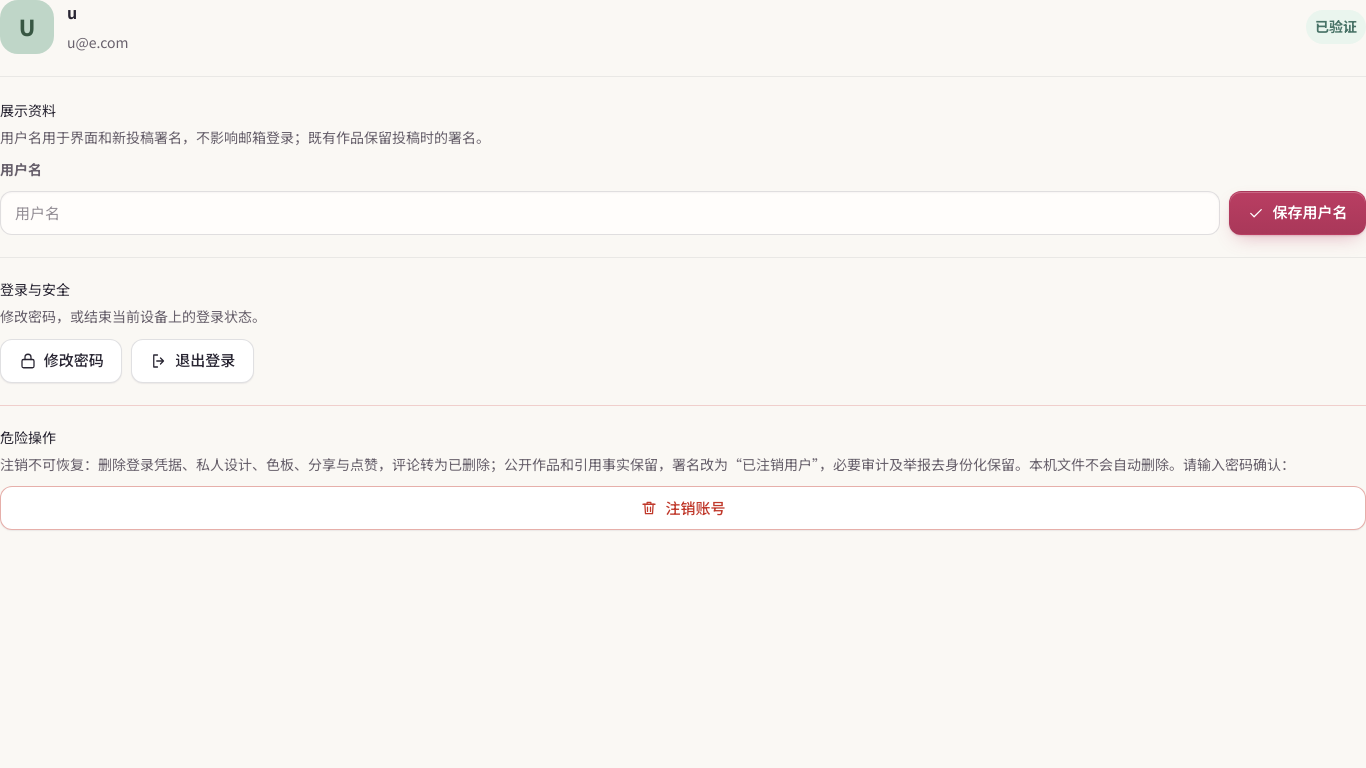
Test: AccountMenu › 修改密码：错误当前密码显示服务端错误；正确则关闭对话框
Click the button "修改密码": (61, 361) 0,339 -> 122,383
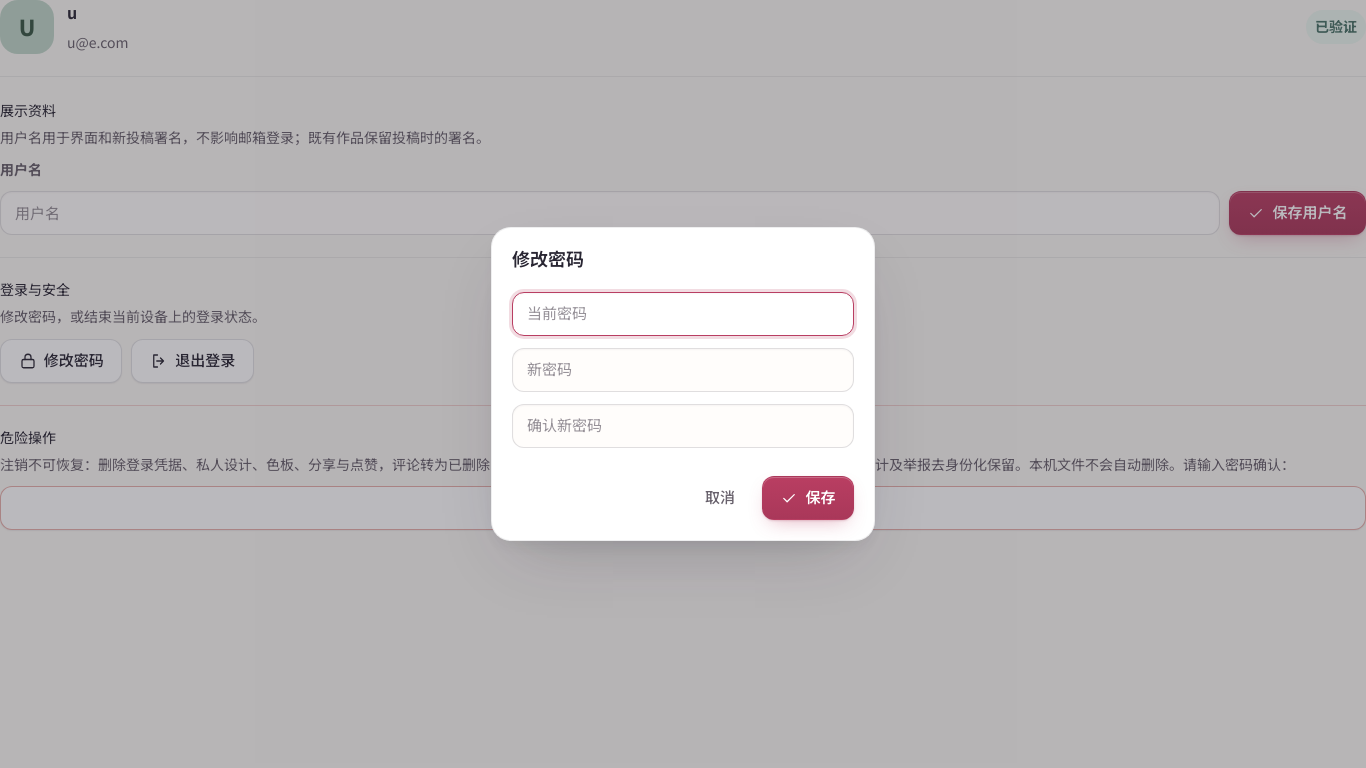
In the password field labelled "当前密码": (683, 314) 512,292 -> 854,336, type "错误"
In the password field labelled "新密码": (683, 370) 512,348 -> 854,392, type "newpassword1"
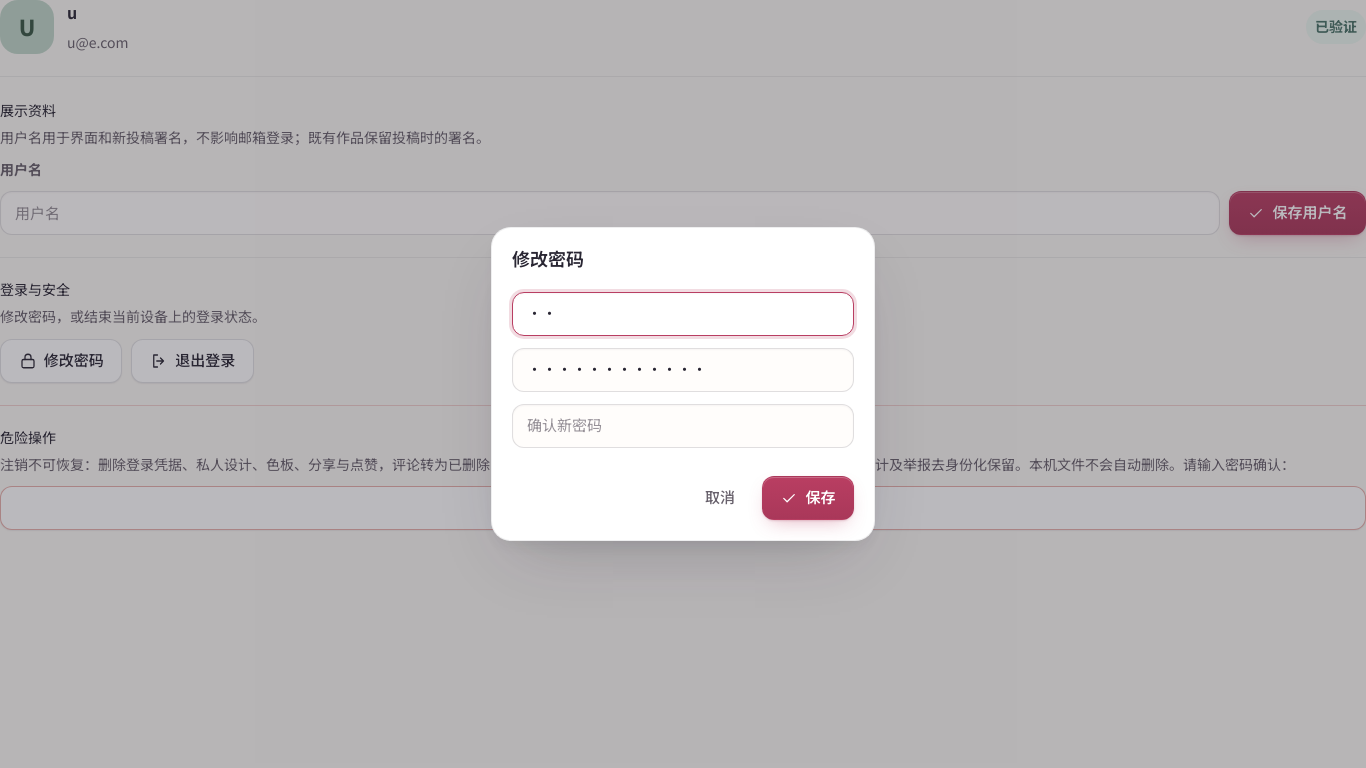
In the password field labelled "确认新密码": (683, 426) 512,404 -> 854,448, type "newpassword1"
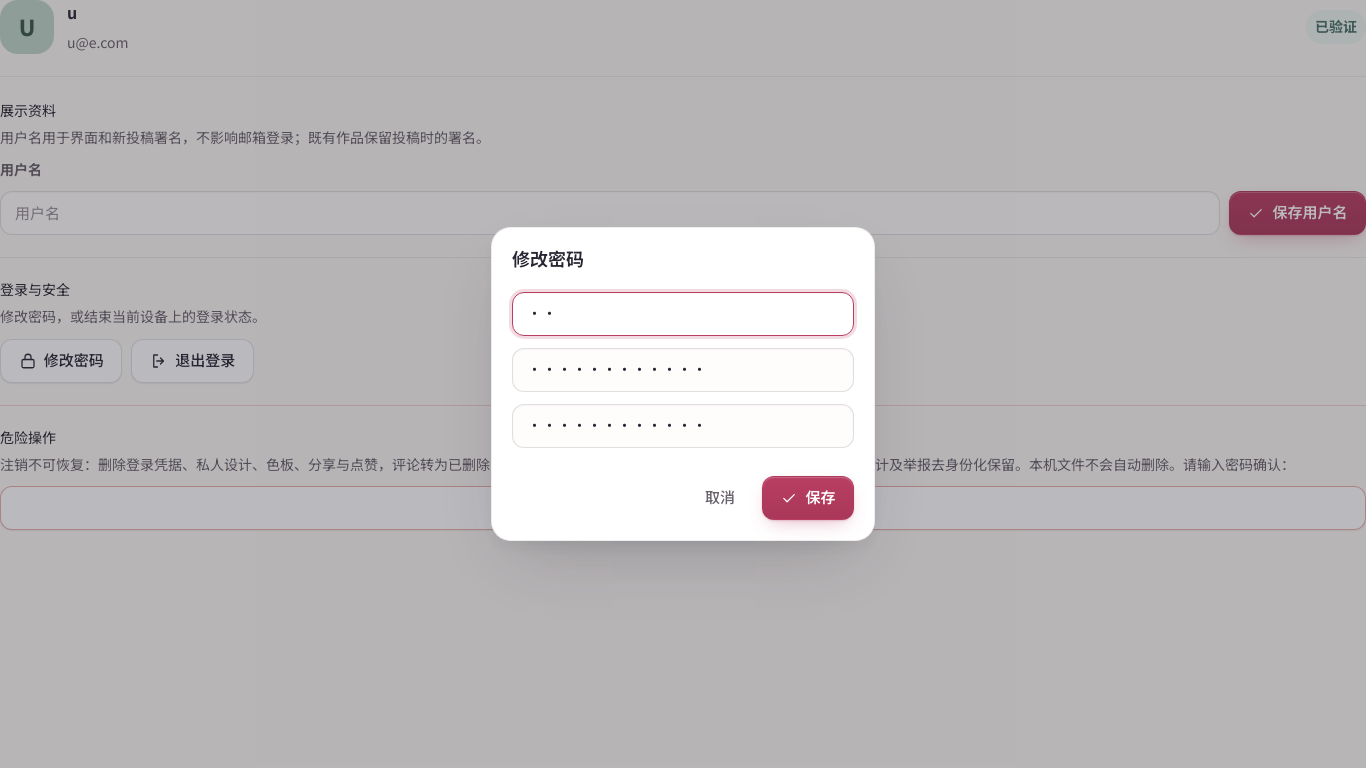
Click the button "保存": (808, 498) 762,476 -> 854,520
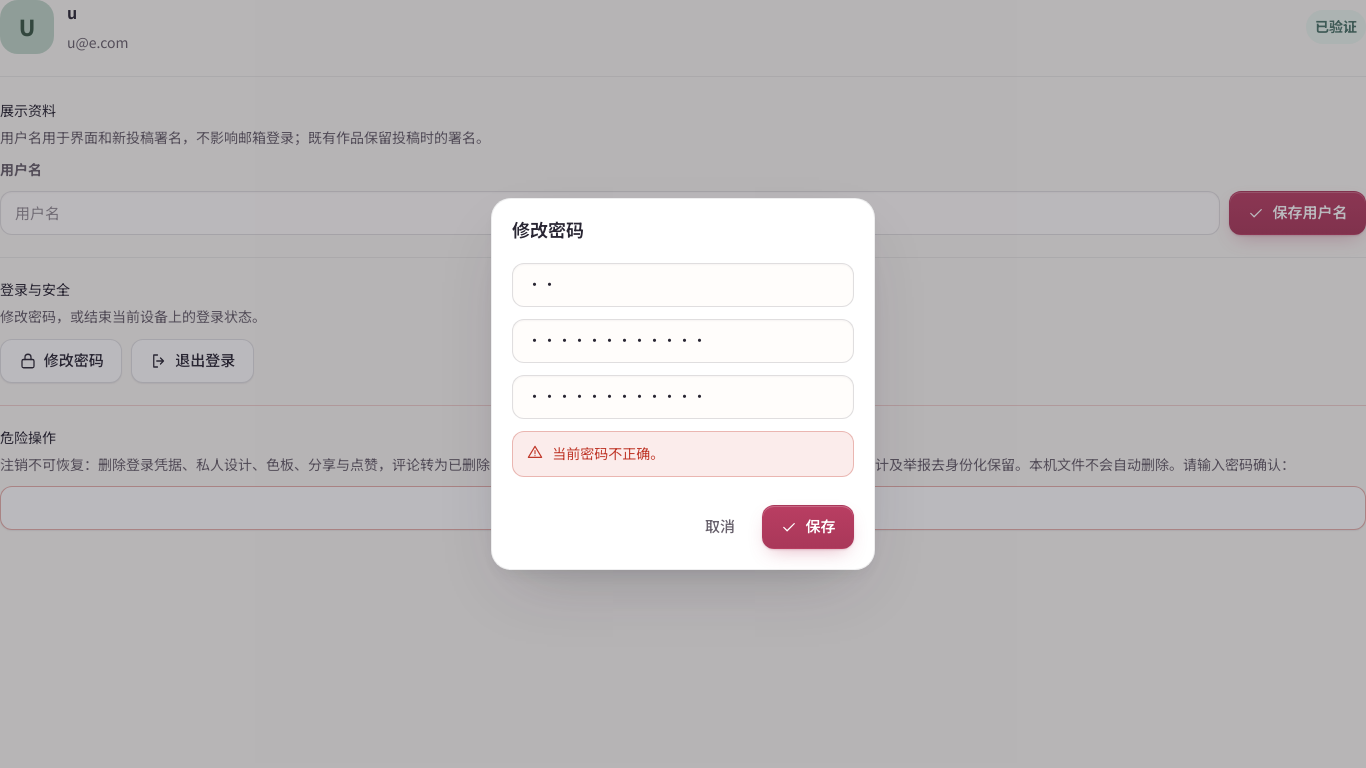
Expected: the dialog is shown, 491,198 -> 875,570
Expected: the text "当前密码不正确。" is shown, 512,431 -> 854,477
In the password field named "当前密码": (683, 285) 512,263 -> 854,307, type "正确密码"
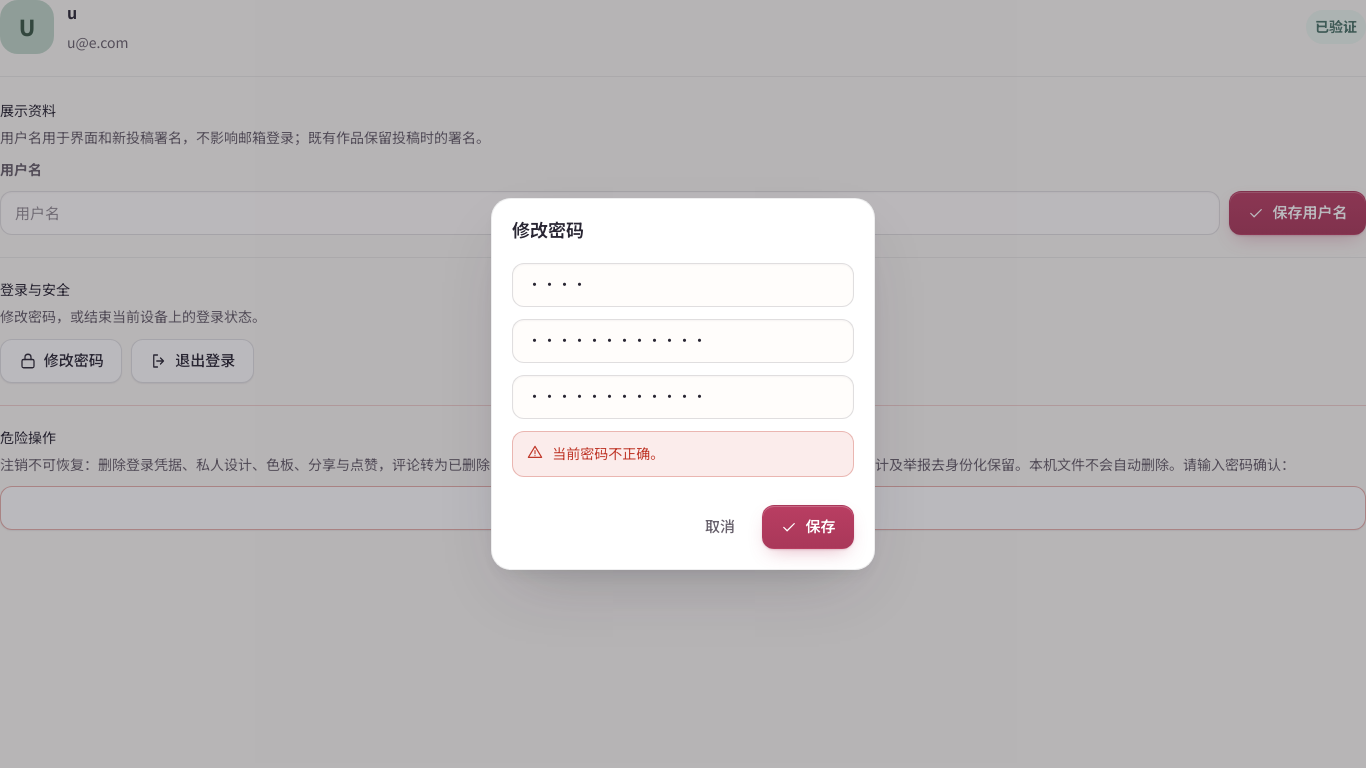
Click the button "保存": (808, 527) 762,505 -> 854,549
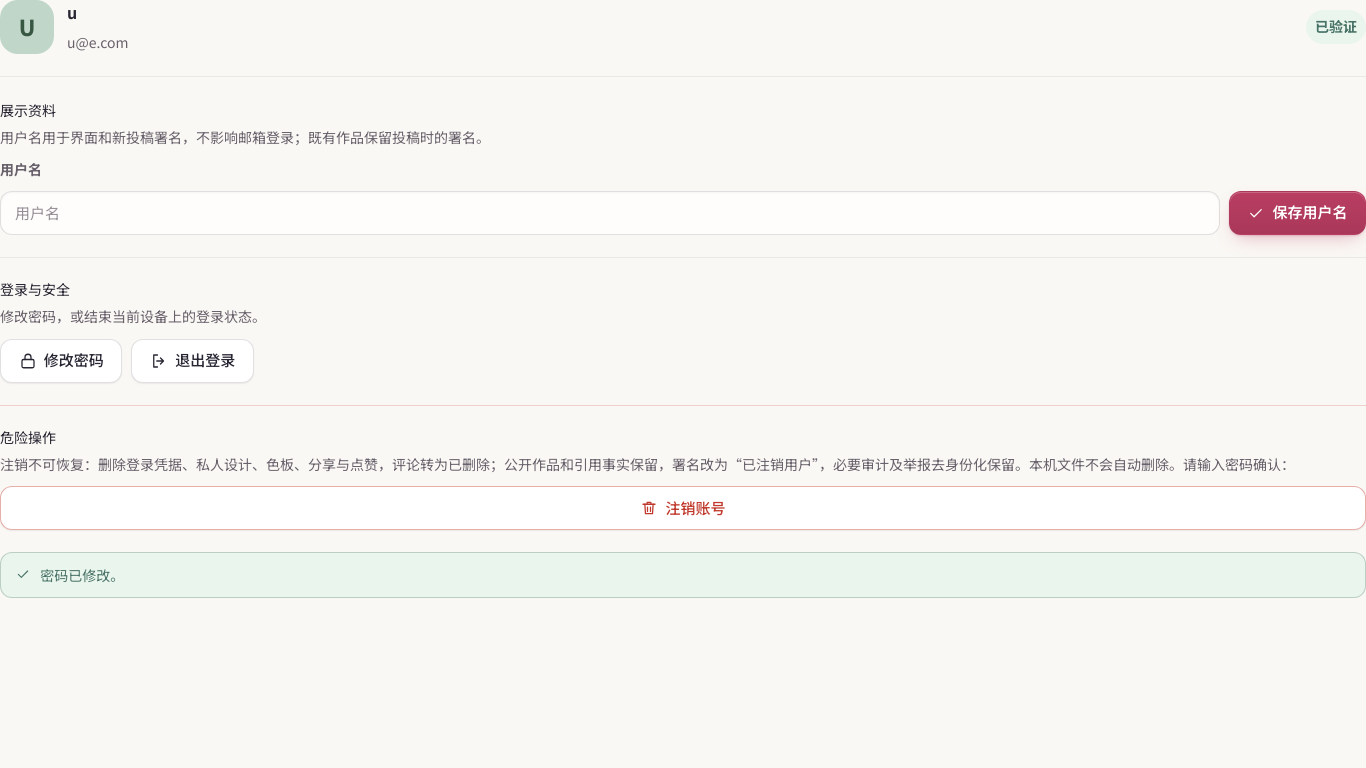
Expected: the dialog is gone
